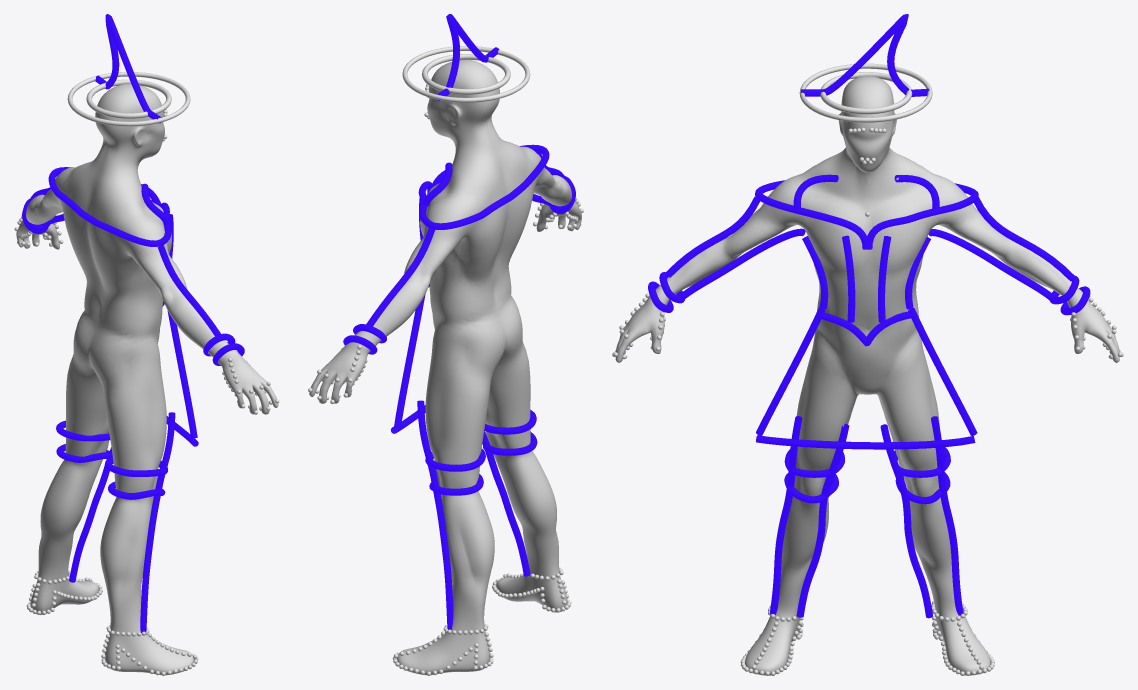
The model's file is good_men.glb.
3 renders of one model, left to right at view 1: azimuth 30°, elevation 25°; view 2: azimuth 150°, elevation 25°; view 3: azimuth 270°, elevation 25°, orthographic. The views are drawn at different scales.
Parts seen in each view (by area): view 1: Human, outer_right_pants, collar, outer_hat, top_hat, inner_hat, right_skirt, inner_left_pants, outer_right_arm, upper_right_knee, lower_left_knee, lower_right_knee_down (+1 smaller); view 2: Human, collar, outer_left_pants, outer_hat, inner_hat, top_hat, inner_right_pants, left_skirt, outer_left_arm, upper_left_knee, lower_right_knee_down, upper_right_knee (+1 smaller); view 3: Human, collar, bottom_skirt, top_hat, outer_hat, inner_left_pants, outer_left_pants, inner_right_pants, outer_right_pants, inner_left_arm, right_skirt, inner_right_arm (+5 smaller).
Part boxes in pixels (left/top/right/bottom): Human: left=16, top=83, right=278, bottom=675; outer_right_pants: left=140, top=412, right=175, bottom=632; collar: left=48, top=167, right=171, bottom=246; outer_hat: left=67, top=72, right=190, bottom=126; top_hat: left=95, top=14, right=161, bottom=123; inner_hat: left=86, top=79, right=171, bottom=118; right_skirt: left=167, top=311, right=197, bottom=438; inner_left_pants: left=69, top=447, right=112, bottom=582; outer_right_arm: left=157, top=245, right=220, bottom=336; upper_right_knee: left=104, top=457, right=167, bottom=476; lower_left_knee: left=56, top=444, right=112, bottom=462; lower_right_knee_down: left=108, top=481, right=165, bottom=499; Human: left=309, top=59, right=581, bottom=675; collar: left=418, top=144, right=549, bottom=229; outer_left_pants: left=417, top=400, right=453, bottom=629; outer_hat: left=402, top=46, right=530, bottom=102; inner_hat: left=422, top=54, right=510, bottom=94; top_hat: left=437, top=14, right=499, bottom=100; inner_right_pants: left=482, top=431, right=530, bottom=576; left_skirt: left=394, top=294, right=425, bottom=427; outer_left_arm: left=366, top=227, right=434, bottom=326; upper_left_knee: left=425, top=448, right=485, bottom=471; lower_right_knee_down: left=483, top=432, right=537, bottom=455; upper_right_knee: left=484, top=410, right=536, bottom=434; Human: left=615, top=76, right=1119, bottom=675; collar: left=755, top=180, right=978, bottom=249; bottom_skirt: left=756, top=435, right=975, bottom=449; top_hat: left=801, top=14, right=929, bottom=96; outer_hat: left=799, top=63, right=932, bottom=122; inner_left_pants: left=880, top=424, right=932, bottom=618; outer_left_pants: left=931, top=416, right=963, bottom=615; inner_right_pants: left=796, top=424, right=849, bottom=617; outer_right_pants: left=770, top=416, right=802, bottom=614; inner_left_arm: left=928, top=229, right=1054, bottom=300; right_skirt: left=756, top=307, right=824, bottom=435; inner_right_arm: left=678, top=228, right=805, bottom=299.
Size of the model in its own units: 0.3922 by 1.97 by 1.4.
